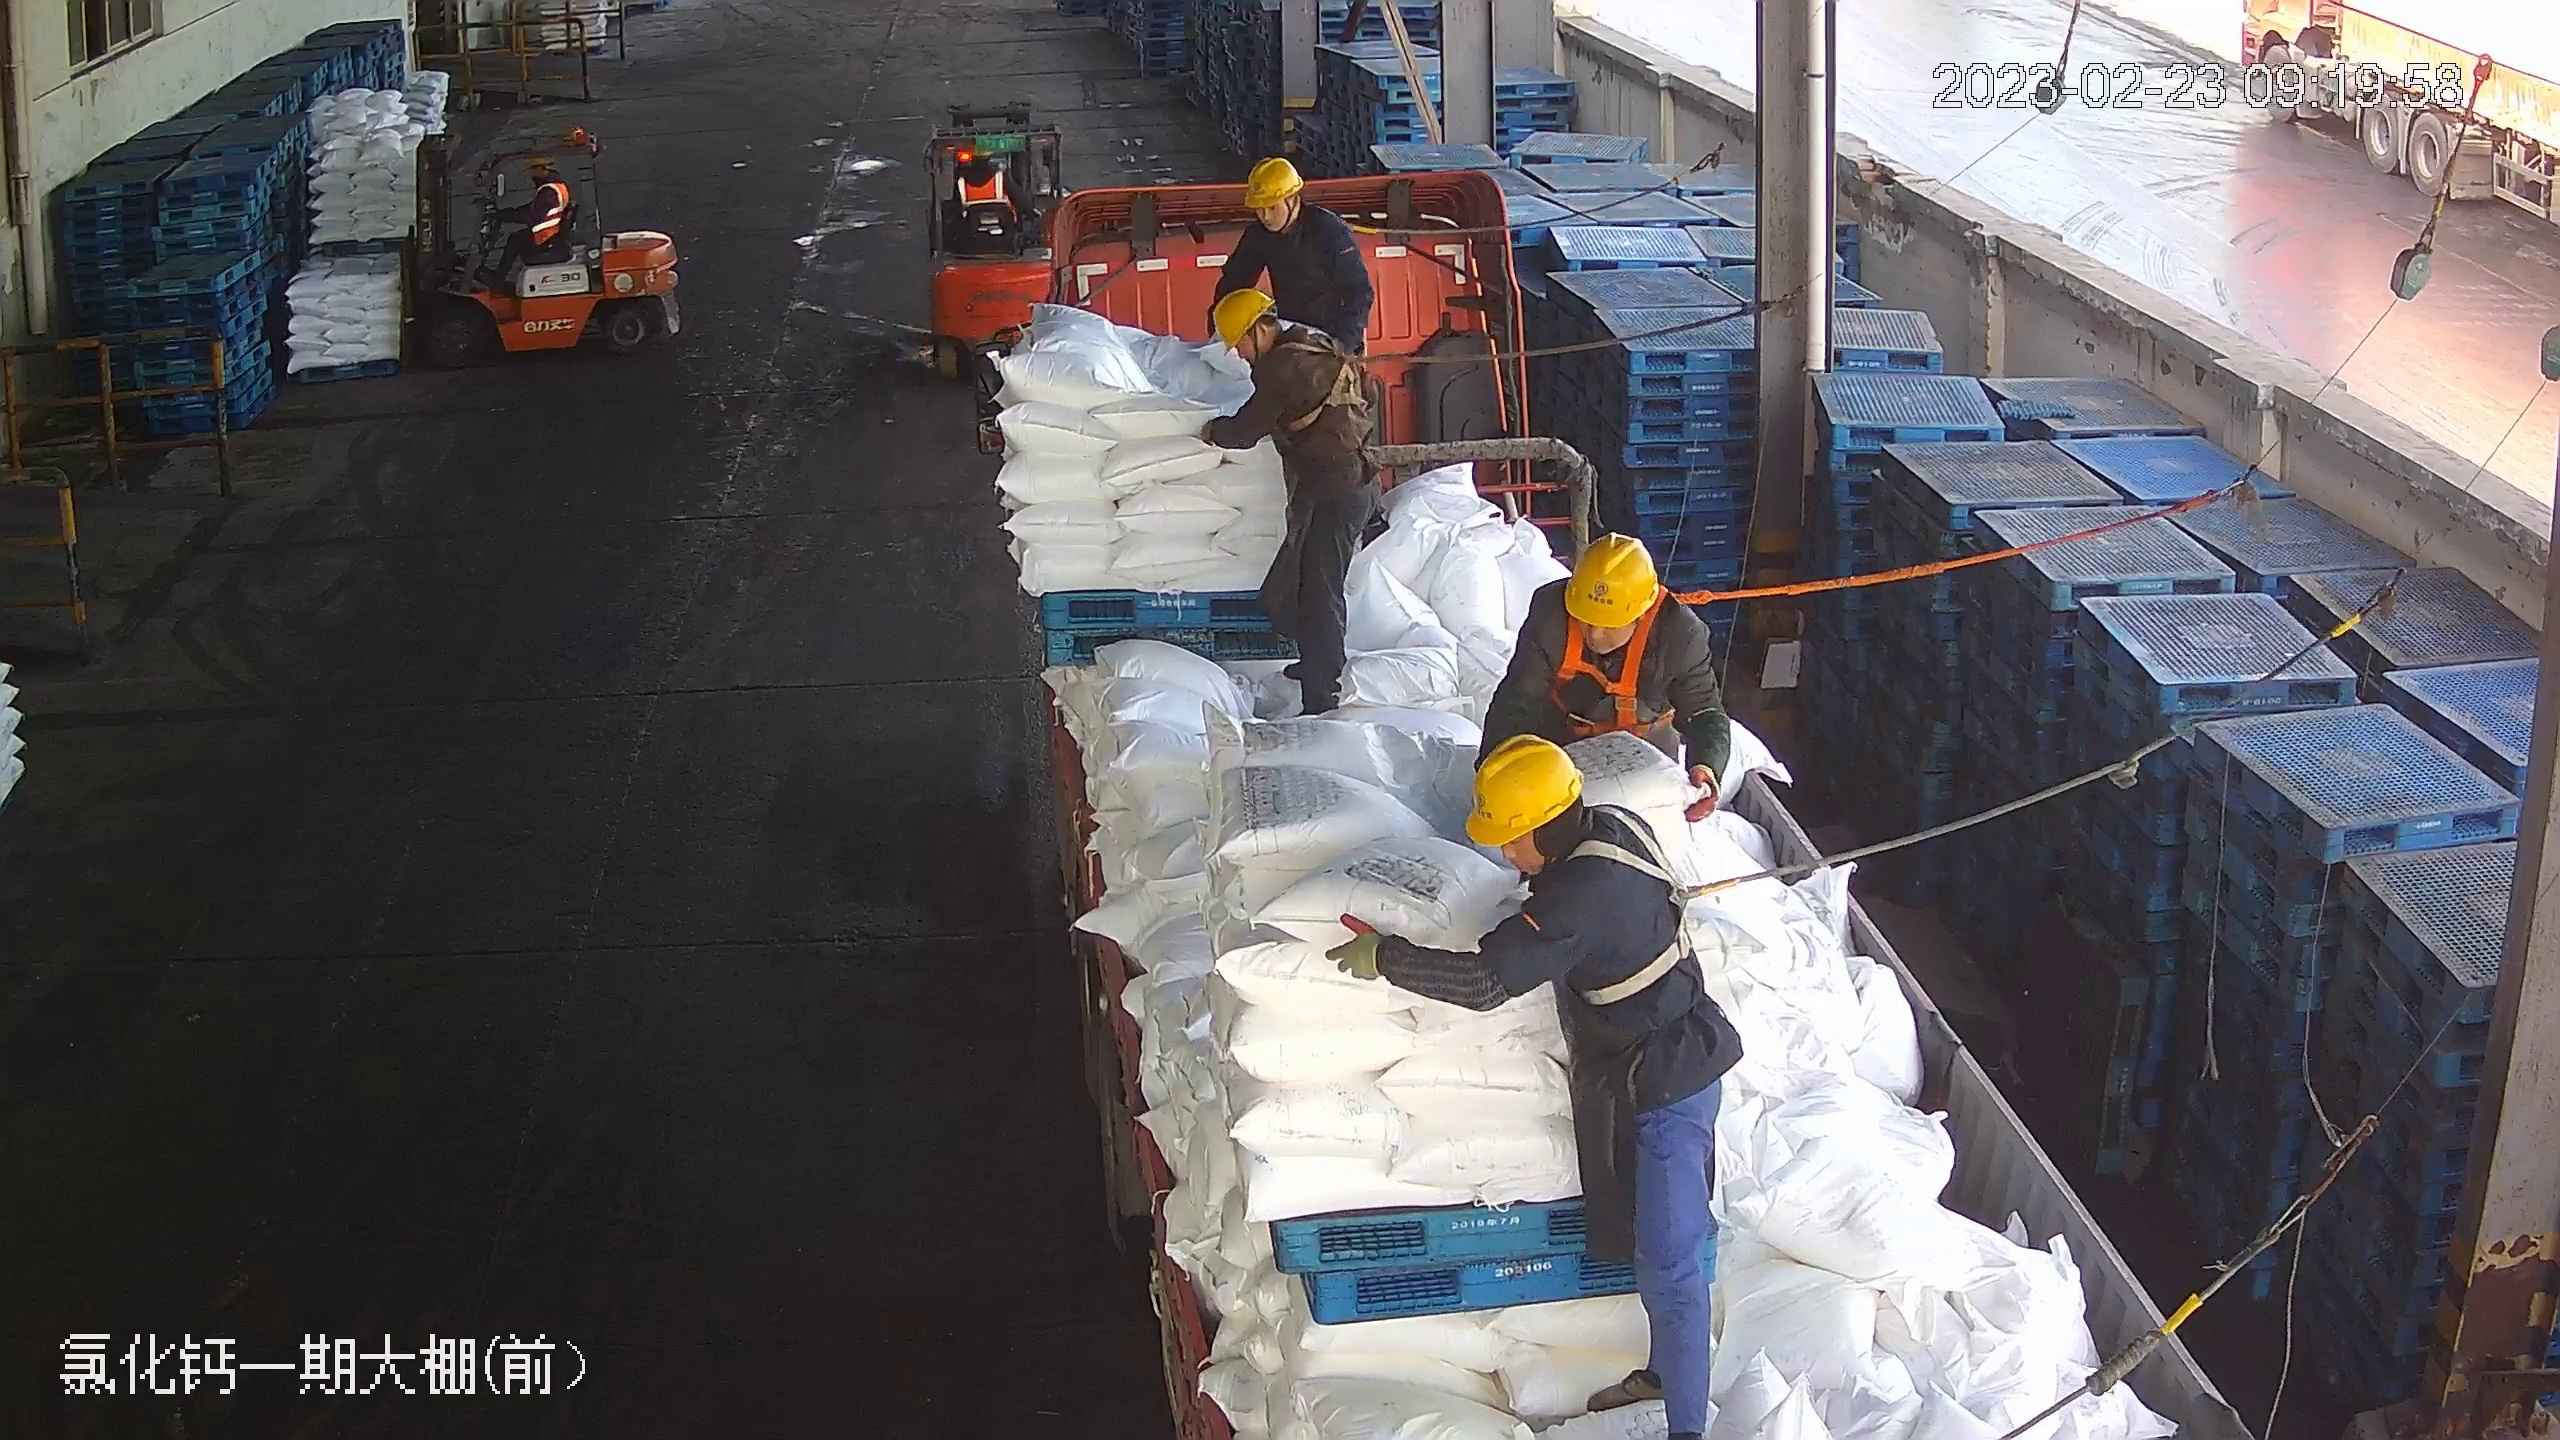belt: (1549, 791, 1739, 1005), (1554, 583, 1715, 732), (1272, 330, 1387, 431), (1316, 206, 1390, 253)
head: (1467, 730, 1673, 948), (1509, 530, 1707, 692), (1213, 284, 1344, 404), (1233, 158, 1351, 263), (521, 157, 568, 209)
helmet: (1466, 733, 1586, 843), (1565, 532, 1660, 627), (1213, 285, 1275, 350), (1241, 156, 1304, 207)
people: (1326, 731, 1739, 1424), (1198, 288, 1380, 720), (1219, 147, 1379, 421), (488, 153, 570, 276)
truck: (986, 174, 2265, 1438)
